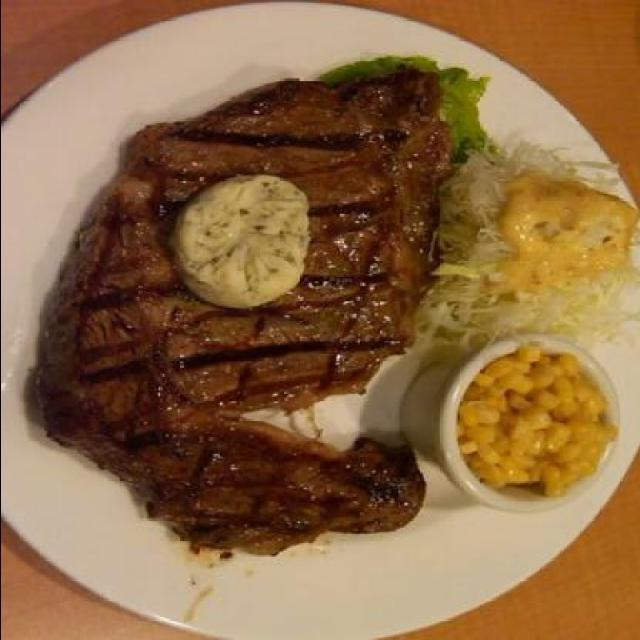Steak: (1, 68, 478, 580)
